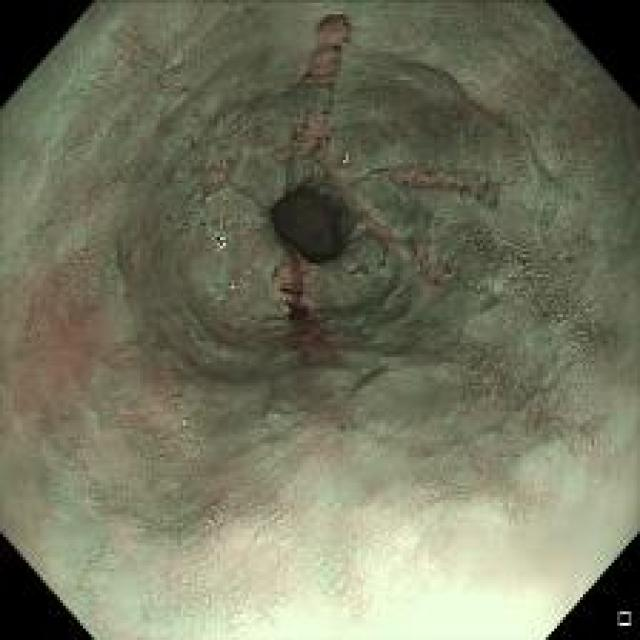blood: (282, 255, 312, 320)
color misalignment: (338, 146, 352, 171), (212, 234, 228, 250)
contrast: (265, 181, 349, 260)
saturation: (172, 500, 574, 639)
specularity: (214, 234, 229, 251), (228, 279, 239, 292)
